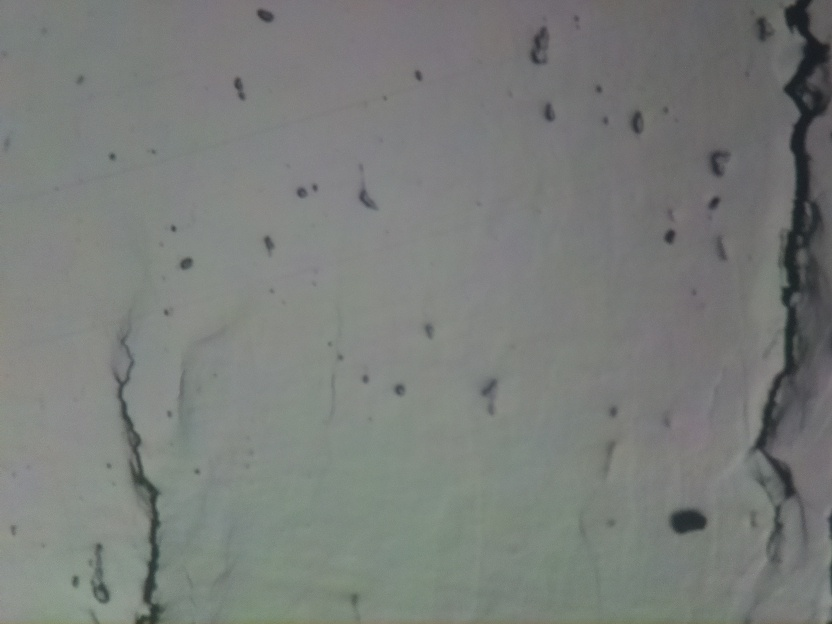crack: (751, 0, 832, 497), (106, 327, 162, 624)
